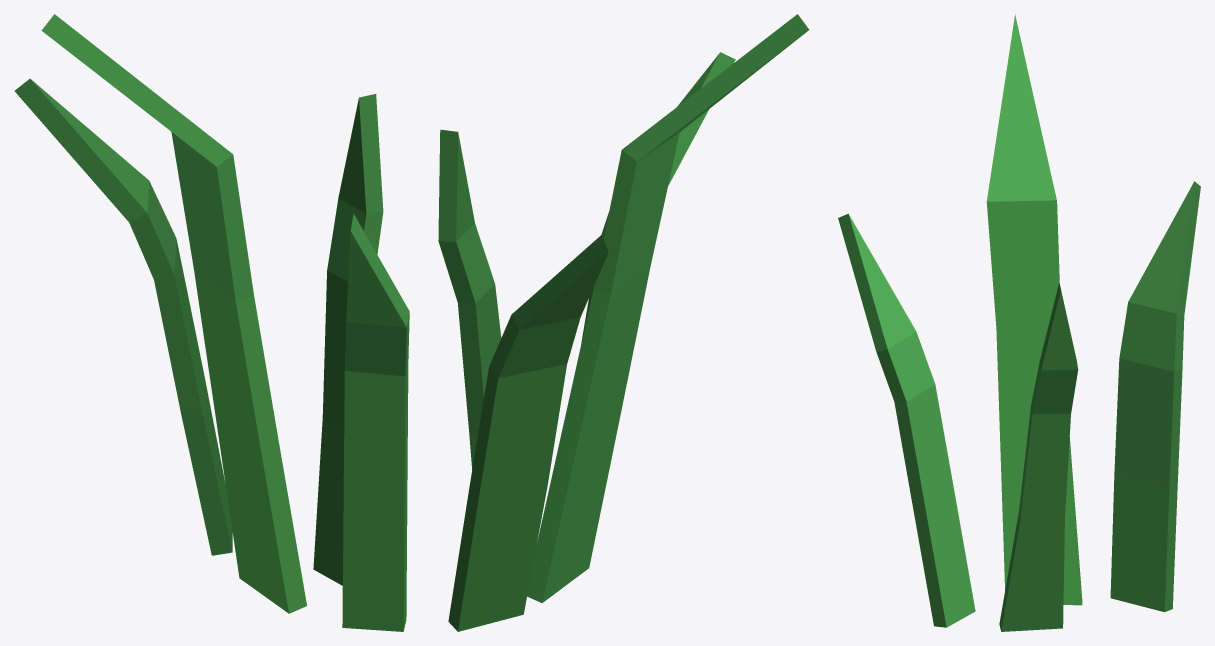
File: Grass_02.fbx
The picture shows the model from 3 angles, left to right: view 1: azimuth 30°, elevation 25°; view 2: azimuth 150°, elevation 25°; view 3: azimuth 270°, elevation 25°; orthographic projection. The views are drawn at different scales.
Visible parts, largest first — view 1: Grass_02; view 2: Grass_02; view 3: Grass_02.
Boxes of the visible parts, box(x1,y1,x2,y2) form: Grass_02: box(14, 14, 409, 631); Grass_02: box(438, 14, 809, 631); Grass_02: box(838, 14, 1200, 631).
Size of the model in its own units: 19.75 by 33.8 by 22.17.
